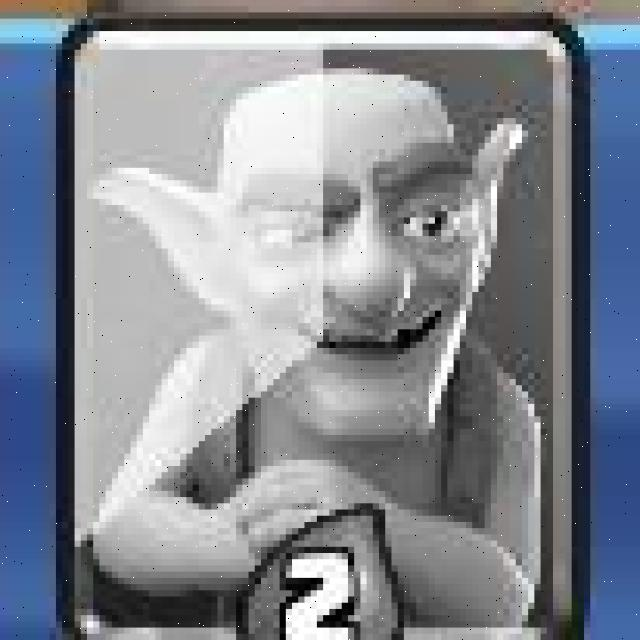Goblins: (56, 18, 586, 640)
